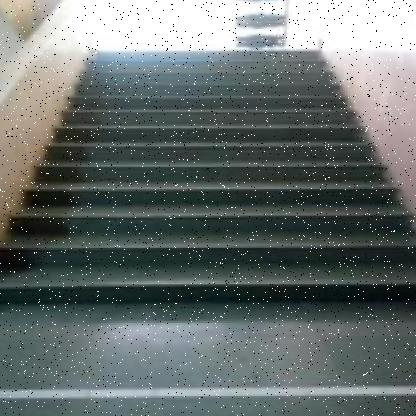stair_up: (23, 156, 382, 322)
